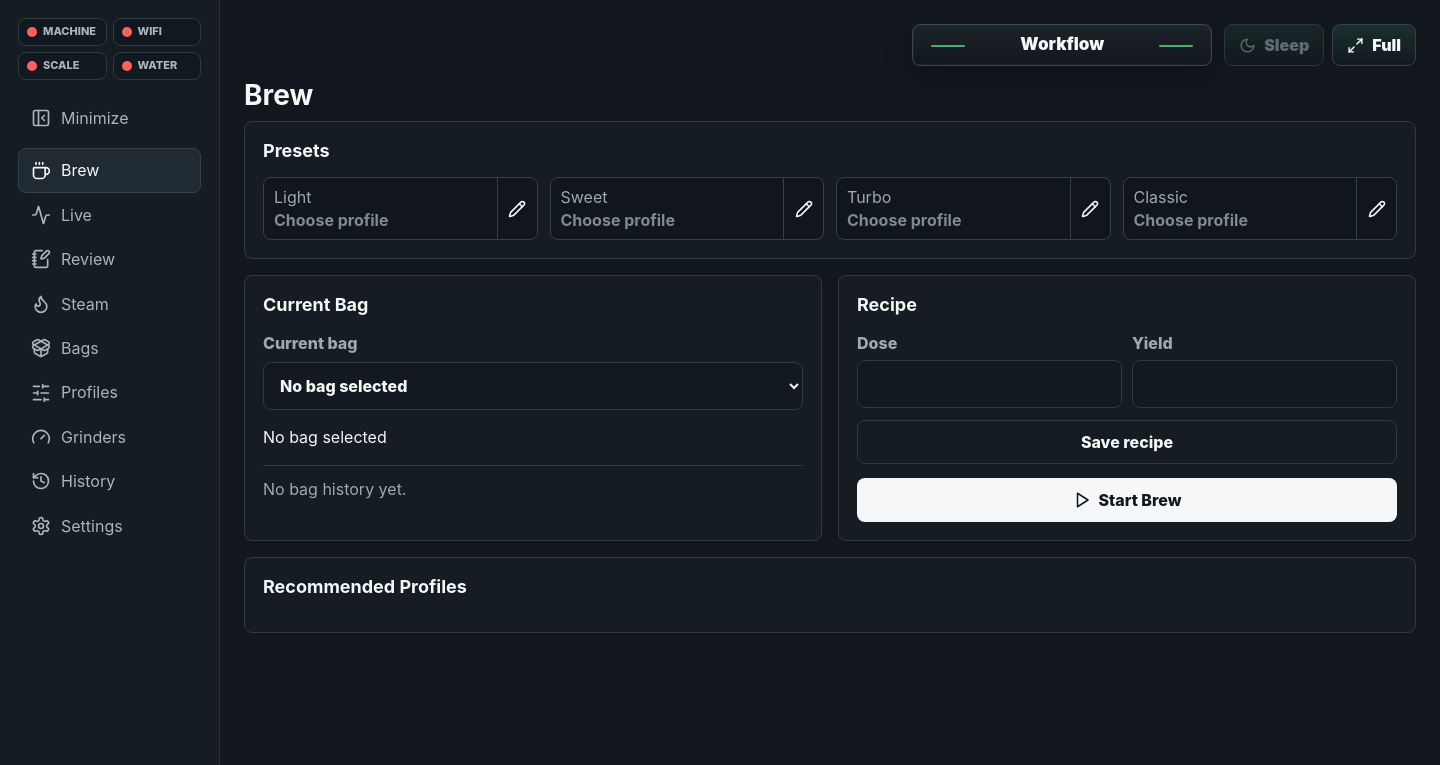
ReviewPage › shows the native R2 sensor error message when measurement fails
The width and height of the screenshot is (1440, 765).
Click the button "Review".
click(110, 259)  # box [18, 237, 201, 282]
(page scrolled)
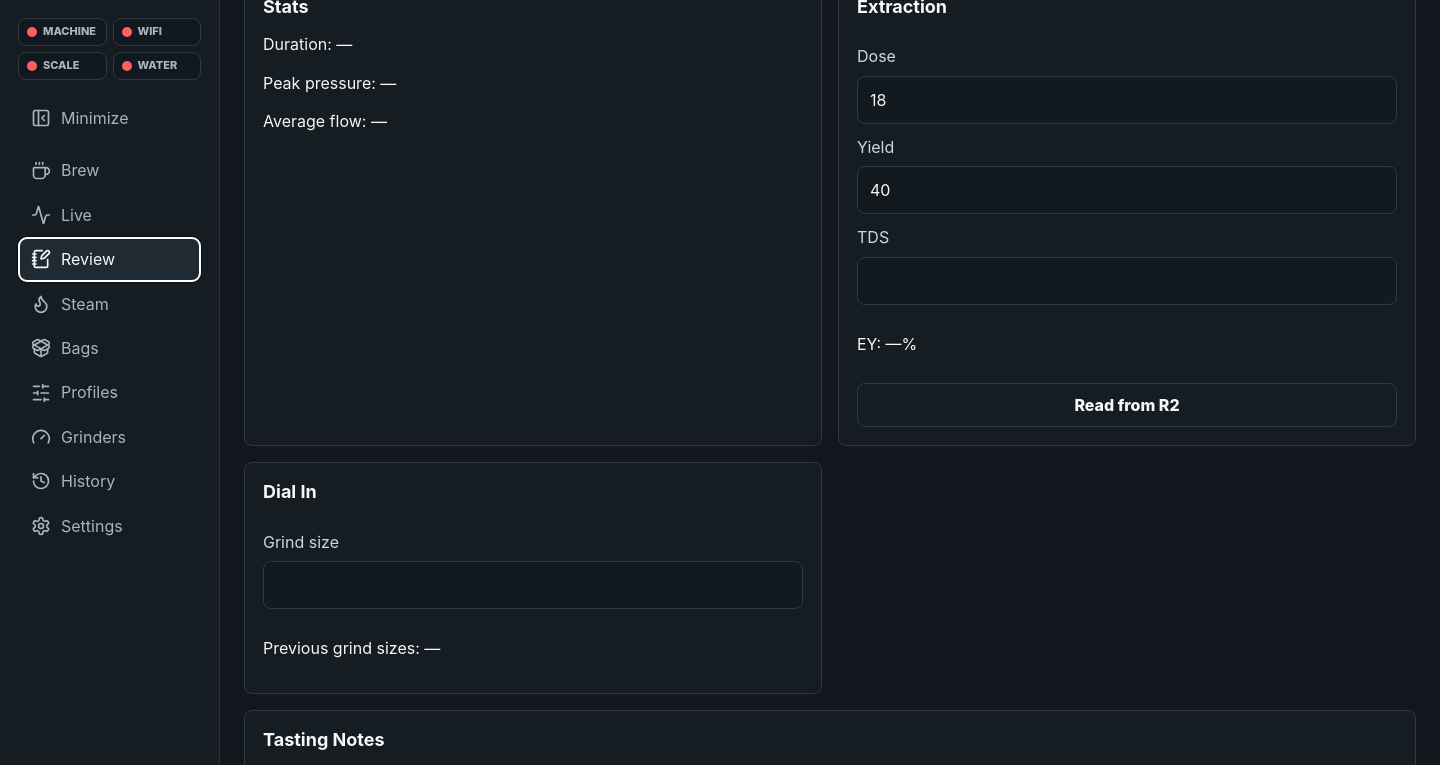
Click the button "Read from R2".
click(1127, 405)  # box [857, 383, 1397, 427]
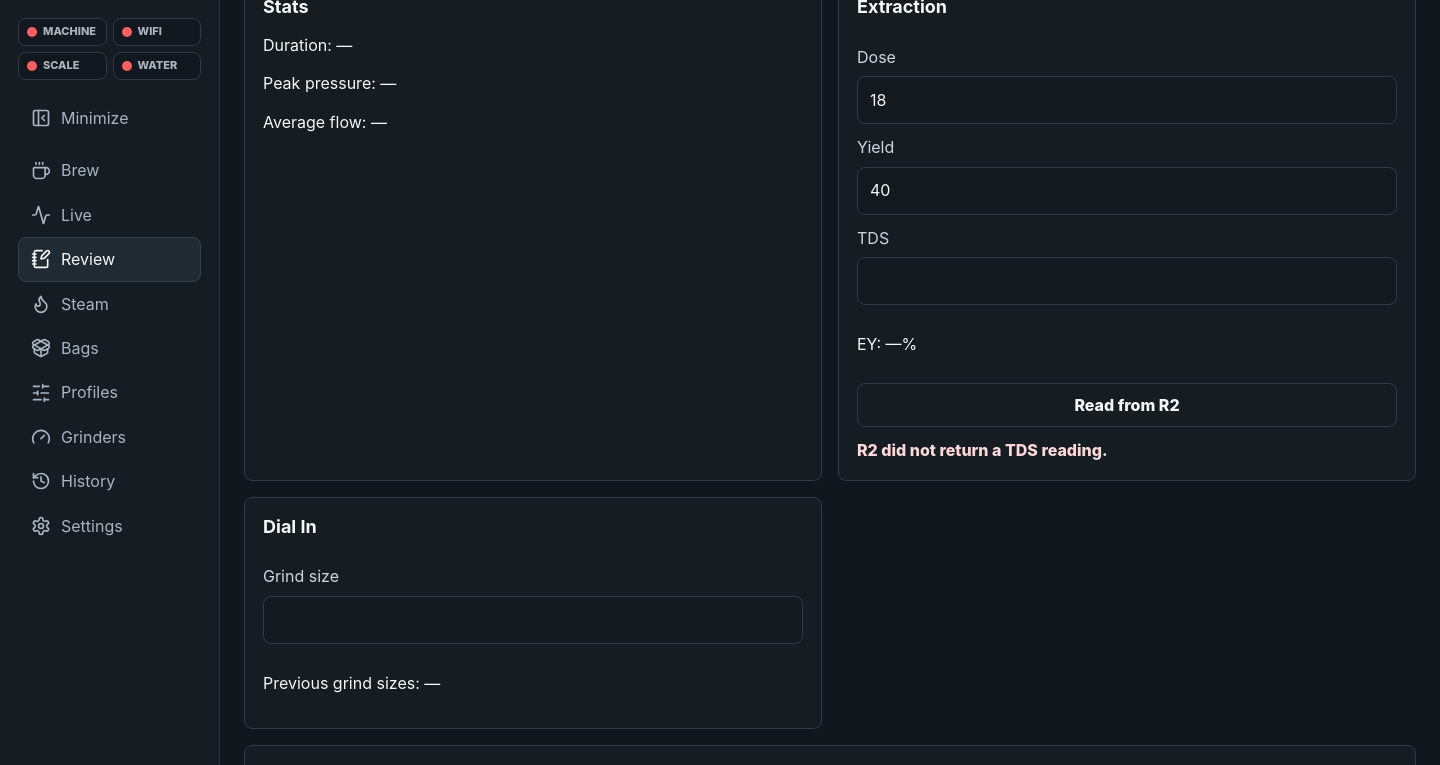
Now the text "R2 did not return a TDS reading." is shown, box [857, 440, 1108, 460]
